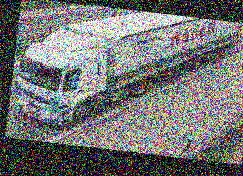truck: (12, 0, 240, 146)
